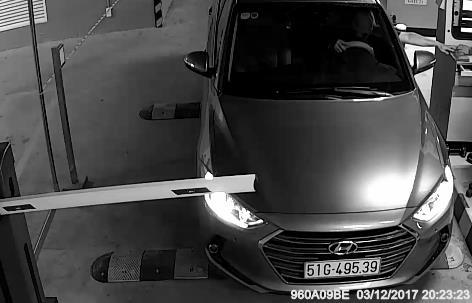License-plate: (294, 254, 393, 282)
